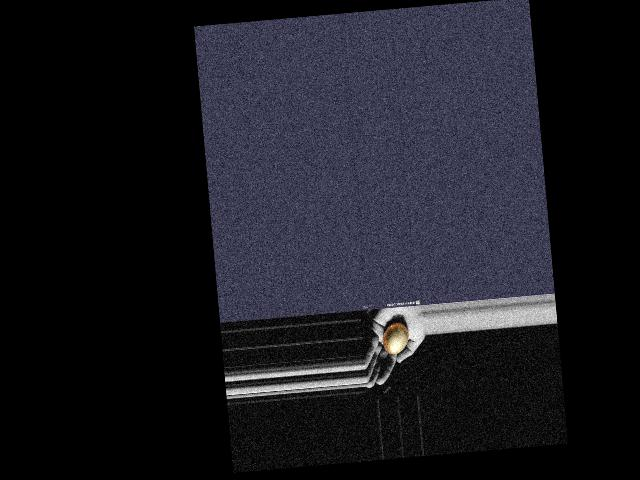egg: (381, 322, 409, 355)
